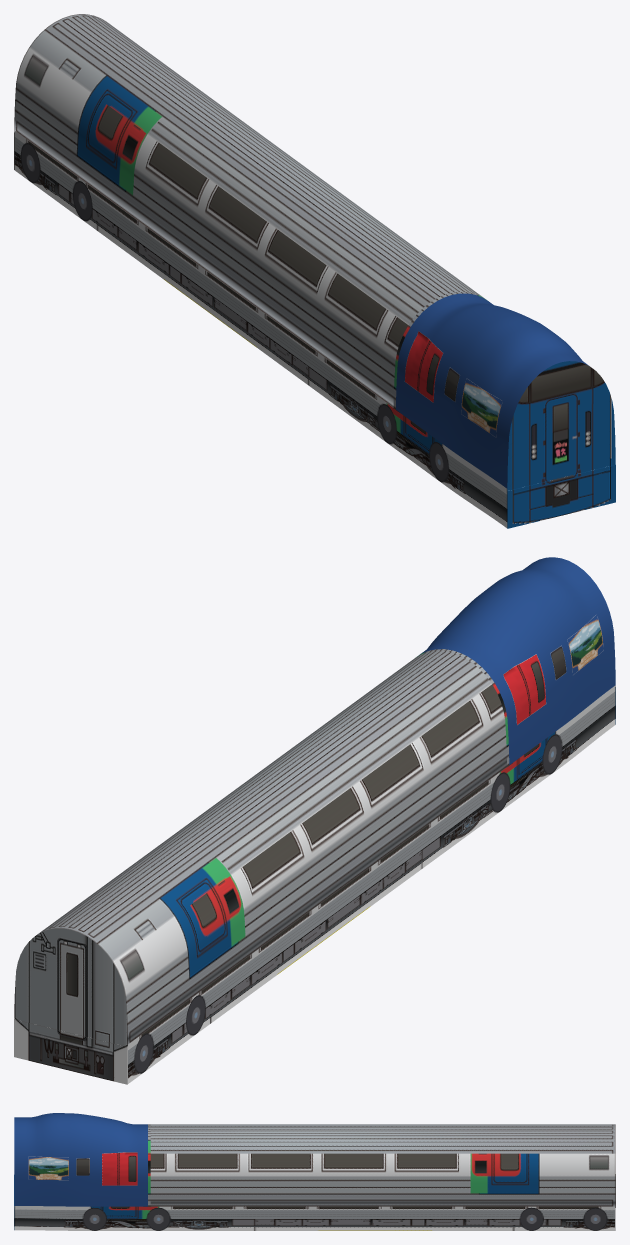
File: car3.glb
The picture shows the model from 3 angles, top to bottom: view 1: azimuth 30°, elevation 25°; view 2: azimuth 150°, elevation 25°; view 3: azimuth 270°, elevation 25°; orthographic projection. The views are drawn at different scales.
Visible parts, largest first — view 1: car3; view 2: car3; view 3: car3.
Boxes of the visible parts, box(x1,y1,x2,y2) form: car3: box(14, 14, 615, 528); car3: box(14, 557, 615, 1084); car3: box(14, 1113, 615, 1230).
Size of the model in its own units: 2.84 by 3.84 by 21.33.
8 materials, 7 textured.
